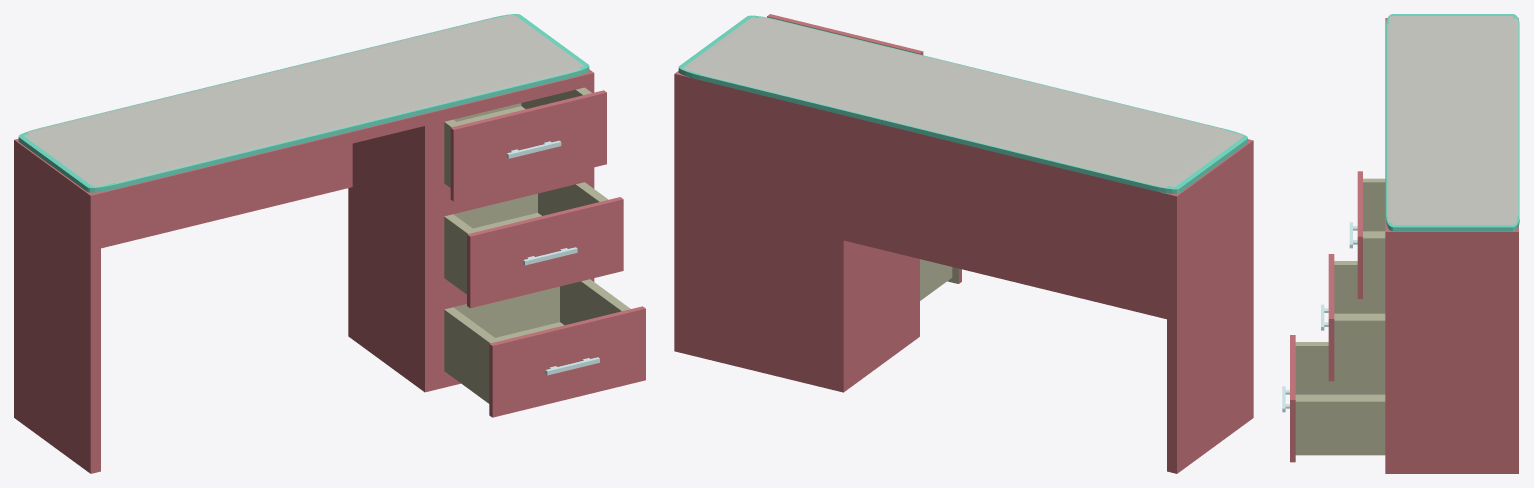
The model's file is desk9.glb.
The picture shows the model from 3 angles, left to right: view 1: azimuth 30°, elevation 25°; view 2: azimuth 150°, elevation 25°; view 3: azimuth 270°, elevation 25°; orthographic projection. The views are drawn at different scales.
Parts seen in each view (by area): view 1: Object_6, Object_2, Object_4, Object_3, Object_5; view 2: Object_6, Object_2, Object_3, Object_4; view 3: Object_6, Object_2, Object_4, Object_3, Object_5.
Part boxes in pixels (x1,y1,x2,y2): Object_6: (14, 69, 645, 473); Object_2: (24, 15, 583, 186); Object_4: (444, 87, 630, 403); Object_3: (18, 14, 589, 192); Object_5: (506, 140, 599, 375); Object_6: (674, 14, 1253, 473); Object_2: (683, 16, 1243, 187); Object_3: (678, 15, 1247, 193); Object_4: (767, 16, 958, 300); Object_6: (1290, 18, 1518, 473); Object_2: (1387, 16, 1518, 224); Object_4: (1295, 178, 1385, 455); Object_3: (1386, 14, 1519, 231); Object_5: (1282, 222, 1357, 412).
Size of the model in its own units: 3.79 by 2.04 by 1.78.
